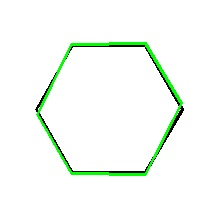line_segment: (35, 43, 184, 175)
